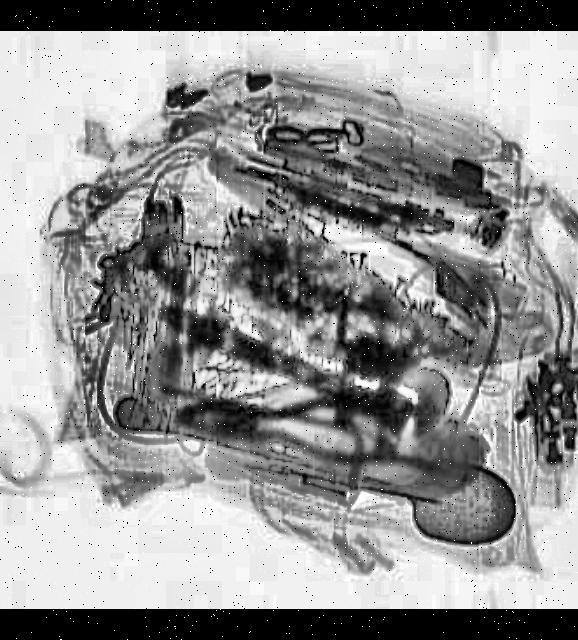Pliers: (169, 382, 438, 478)
